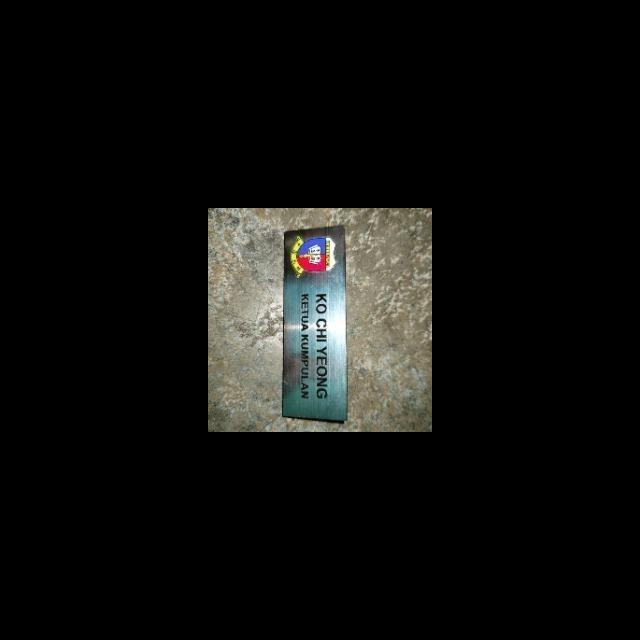plastic: (279, 223, 360, 429)
